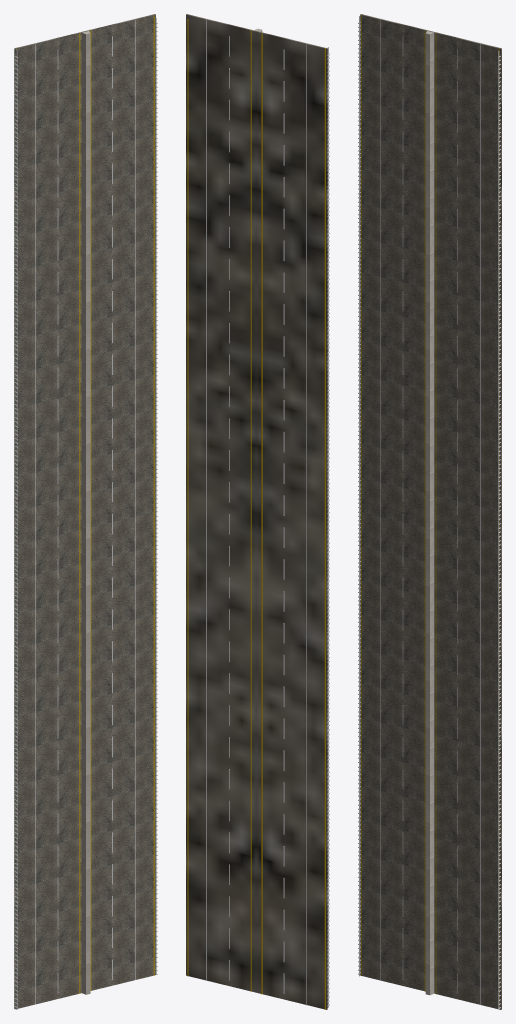
File: Highway_vis.obj
3 views of the same model, side by side, from view 1: azimuth 30°, elevation 25°; view 2: azimuth 150°, elevation 25°; view 3: azimuth 330°, elevation 25° (orthographic).
Visible parts, largest first — view 1: Highway_Cube, Central_Piece_Cube.001, Central_Yellow_2_Cube.002, Central_Yellow_1_Cube.013, RIght_Yellow_Line_Cube.003, Right_Side_Bar_Cylinder.069, Left_Side_Bar_Cylinder.070, Left_Cylinder_Bar_Cylinder.000, Left_Dashed_Lline_Cube.046, Left_Most_Straight_Line_Cube.011, Righ_Most_Straight_line_Cube.004, Right_Cylinde_Bar_Cylinder.085 (+1 smaller); view 2: Highway_Cube, Central_Yellow_1_Cube.013, Central_Yellow_2_Cube.002, Left_Yellow_Line_Cube.012, RIght_Yellow_Line_Cube.003, Left_Side_Bar_Cylinder.070, Left_Dashed_Lline_Cube.046, Left_Cylinder_Bar_Cylinder.000, Left_Most_Straight_Line_Cube.011, Righ_Most_Straight_line_Cube.004, Right_Dashed_Line_Cube.037; view 3: Highway_Cube, Central_Piece_Cube.001, Left_Side_Bar_Cylinder.070, Central_Yellow_2_Cube.002, Central_Yellow_1_Cube.013, Right_Side_Bar_Cylinder.069, Right_Cylinde_Bar_Cylinder.085, Left_Dashed_Lline_Cube.046, Left_Most_Straight_Line_Cube.011, Righ_Most_Straight_line_Cube.004, Left_Yellow_Line_Cube.012, Left_Cylinder_Bar_Cylinder.000 (+2 smaller).
Boxes of the visible parts, x1=… form: Highway_Cube: x1=14, y1=14, x2=155, y2=1009; Central_Piece_Cube.001: x1=82, y1=31, x2=90, y2=994; Central_Yellow_2_Cube.002: x1=89, y1=29, x2=91, y2=990; Central_Yellow_1_Cube.013: x1=79, y1=33, x2=80, y2=993; RIght_Yellow_Line_Cube.003: x1=153, y1=15, x2=154, y2=975; Right_Side_Bar_Cylinder.069: x1=155, y1=17, x2=156, y2=974; Left_Side_Bar_Cylinder.070: x1=16, y1=49, x2=17, y2=1009; Left_Cylinder_Bar_Cylinder.000: x1=14, y1=56, x2=17, y2=1008; Left_Dashed_Lline_Cube.046: x1=57, y1=49, x2=58, y2=993; Left_Most_Straight_Line_Cube.011: x1=35, y1=44, x2=35, y2=1004; Righ_Most_Straight_line_Cube.004: x1=135, y1=20, x2=135, y2=979; Right_Cylinde_Bar_Cylinder.085: x1=155, y1=22, x2=157, y2=974; Highway_Cube: x1=186, y1=14, x2=327, y2=1009; Central_Yellow_1_Cube.013: x1=261, y1=33, x2=262, y2=994; Central_Yellow_2_Cube.002: x1=250, y1=30, x2=251, y2=991; Left_Yellow_Line_Cube.012: x1=324, y1=48, x2=325, y2=1009; RIght_Yellow_Line_Cube.003: x1=187, y1=19, x2=188, y2=976; Left_Side_Bar_Cylinder.070: x1=327, y1=47, x2=328, y2=1007; Left_Dashed_Lline_Cube.046: x1=283, y1=49, x2=284, y2=993; Left_Cylinder_Bar_Cylinder.000: x1=327, y1=53, x2=329, y2=1006; Left_Most_Straight_Line_Cube.011: x1=306, y1=44, x2=306, y2=1005; Righ_Most_Straight_line_Cube.004: x1=206, y1=19, x2=206, y2=980; Right_Dashed_Line_Cube.037: x1=229, y1=36, x2=229, y2=980; Highway_Cube: x1=360, y1=14, x2=501, y2=1009; Central_Piece_Cube.001: x1=425, y1=31, x2=434, y2=995; Left_Side_Bar_Cylinder.070: x1=359, y1=15, x2=360, y2=976; Central_Yellow_2_Cube.002: x1=435, y1=33, x2=436, y2=993; Central_Yellow_1_Cube.013: x1=424, y1=31, x2=425, y2=991; Right_Side_Bar_Cylinder.069: x1=498, y1=51, x2=499, y2=1008; Right_Cylinde_Bar_Cylinder.085: x1=498, y1=55, x2=500, y2=1009; Left_Dashed_Lline_Cube.046: x1=402, y1=36, x2=403, y2=979; Left_Most_Straight_Line_Cube.011: x1=380, y1=18, x2=381, y2=980; Righ_Most_Straight_line_Cube.004: x1=480, y1=44, x2=480, y2=1004; Left_Yellow_Line_Cube.012: x1=361, y1=15, x2=361, y2=975; Left_Cylinder_Bar_Cylinder.000: x1=358, y1=22, x2=360, y2=974.
Size of the model in its own units: 23.18 by 151 by 1.12.
5 materials, 2 textured.
